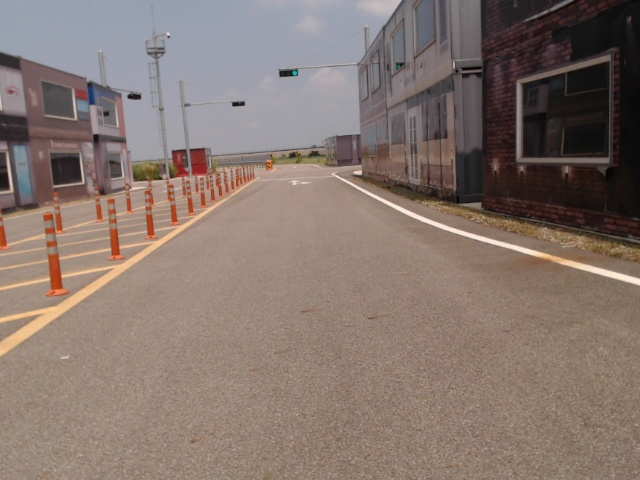green_3: (279, 69, 298, 77)
